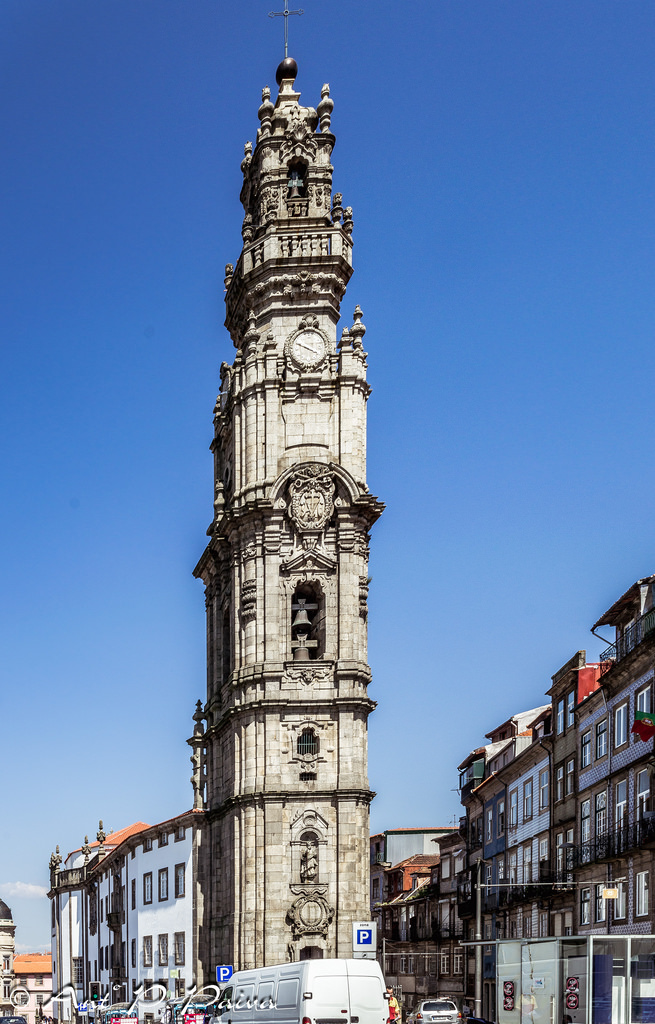clerigos: (186, 0, 386, 958)
